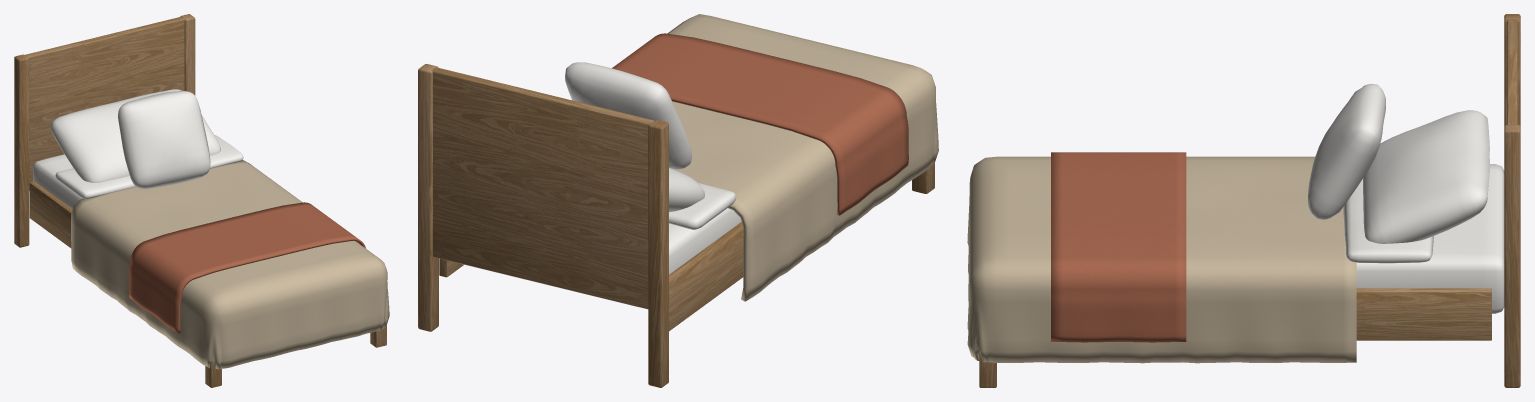
Rendered from cama_madera_90.glb.
3 views of the same model, side by side, from view 1: azimuth 30°, elevation 25°; view 2: azimuth 150°, elevation 25°; view 3: azimuth 270°, elevation 25° (orthographic). The views are drawn at different scales.
Parts seen in each view (by area): view 1: cama_madera_90; view 2: cama_madera_90; view 3: cama_madera_90.
Part boxes in pixels (box(x1,y1,x2,y2)): cama_madera_90: box(14, 14, 389, 387); cama_madera_90: box(418, 14, 938, 387); cama_madera_90: box(967, 14, 1520, 387).
Size of the model in its own units: 1.12 by 1.05 by 2.04.
Materials: 4 (4 with a texture image).
